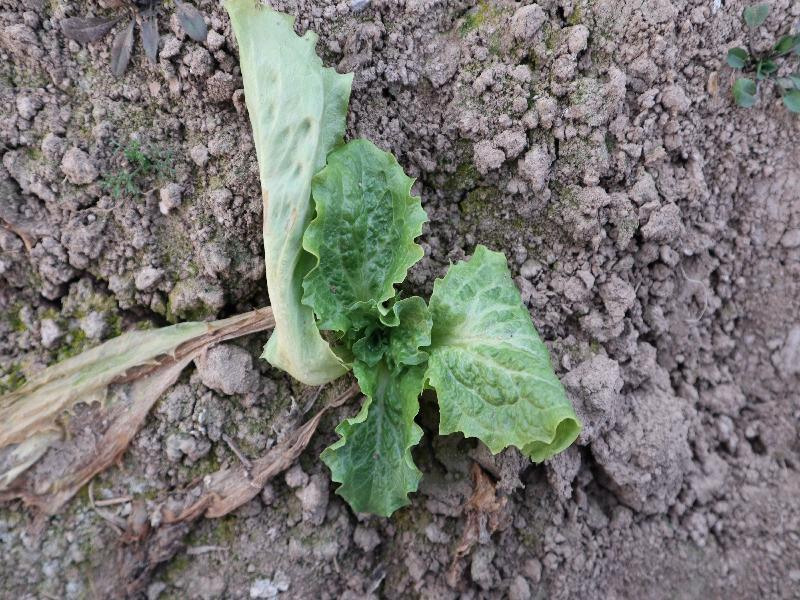lettuce: (218, 0, 581, 518)
